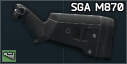M870 Magpul SGA polymer stock: (0, 0, 127, 64)
